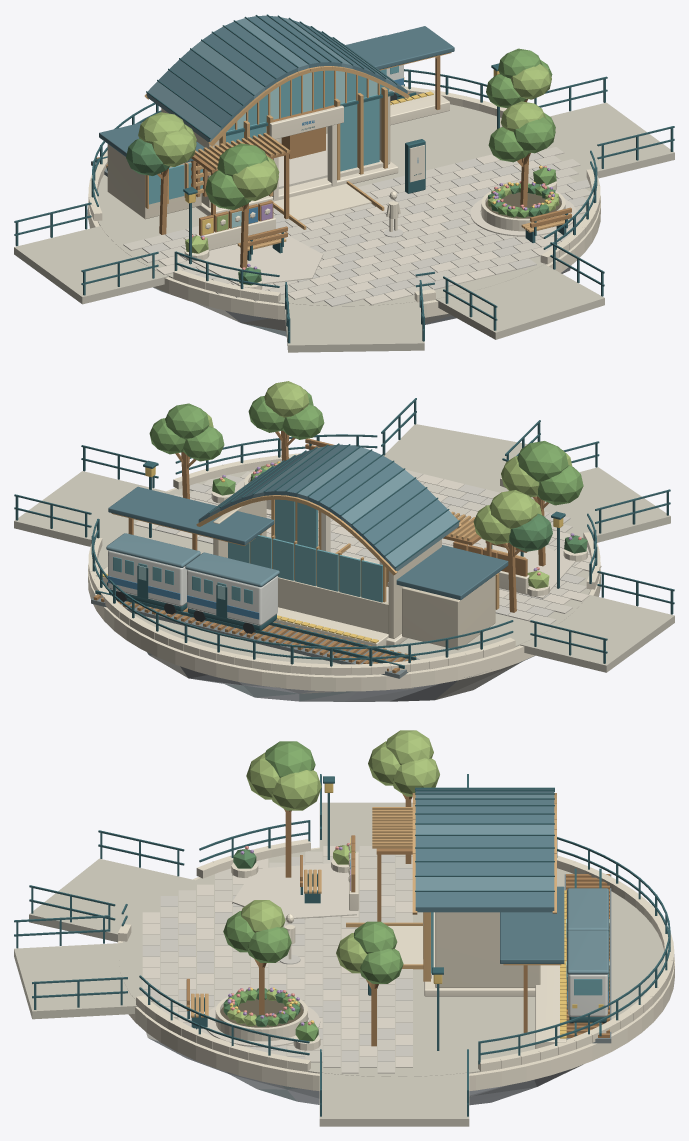
Rendered from transport-station.glb.
3 renders of one model, top to bottom at view 1: azimuth 30°, elevation 25°; view 2: azimuth 150°, elevation 25°; view 3: azimuth 270°, elevation 25°, orthographic. The views are drawn at different scales.
Visible parts, largest first — view 1: Terrain__Plaza_warm_stone, Terrain__Paving_A, Architecture__Standing_seam_blue_teal, Terrain__Light_cut_stone, Landscape__Tree_mid_green, Terrain__Dark_teal_metal, Terrain__Paving_B, Terrain__Paving_C, Landscape__Tree_sun_green, Architecture__Blue_green_glazing, Architecture__Woven_timber, Landscape__Paving_B (+20 smaller); view 2: Terrain__Plaza_warm_stone, Terrain__Light_cut_stone, Architecture__Standing_seam_blue_teal, Architecture__Warm_limestone_plaster, Terrain__Dark_teal_metal, Landscape__Tree_mid_green, Architecture__Blue_green_glazing, Landscape__Tree_sun_green, Attached platform roof, Train__Train_porcelain, Triangulated floating limestone, Terrain__Paving_A (+21 smaller); view 3: Terrain__Plaza_warm_stone, Terrain__Light_cut_stone, Terrain__Paving_A, Architecture__Standing_seam_blue_teal, Landscape__Tree_sun_green, Terrain__Dark_teal_metal, Terrain__Paving_B, Terrain__Paving_C, Landscape__Tree_mid_green, Architecture__Warm_limestone_plaster, Landscape__Paving_B, Architecture__Roof_panel_highlight (+17 smaller).
Boxes of the visible parts, x1,y1,x2,y2 form: Terrain__Plaza_warm_stone: (14,102,674,352); Terrain__Paving_A: (123,147,590,303); Architecture__Standing_seam_blue_teal: (99,15,407,162); Terrain__Light_cut_stone: (88,86,600,319); Landscape__Tree_mid_green: (205,48,556,217); Terrain__Dark_teal_metal: (14,69,674,343); Terrain__Paving_B: (156,149,561,305); Terrain__Paving_C: (142,152,590,306); Landscape__Tree_sun_green: (138,64,559,253); Architecture__Blue_green_glazing: (149,70,389,204); Architecture__Woven_timber: (144,66,409,208); Landscape__Paving_B: (180,199,576,284); Terrain__Plaza_warm_stone: (14,424,674,675); Terrain__Light_cut_stone: (88,452,600,691); Architecture__Standing_seam_blue_teal: (198,444,508,600); Architecture__Warm_limestone_plaster: (213,500,495,650); Terrain__Dark_teal_metal: (14,398,674,666); Landscape__Tree_mid_green: (149,389,583,505); Architecture__Blue_green_glazing: (228,499,382,602); Landscape__Tree_sun_green: (205,381,572,588); Attached platform roof: (108,486,274,545); Train__Train_porcelain: (108,550,277,625); Triangulated floating limestone: (147,652,534,701); Terrain__Paving_A: (174,469,589,624); Terrain__Plaza_warm_stone: (14,802,664,1126); Terrain__Light_cut_stone: (118,839,674,1090); Terrain__Paving_A: (142,846,412,1073); Architecture__Standing_seam_blue_teal: (415,789,554,912); Landscape__Tree_sun_green: (227,730,439,1026); Terrain__Dark_teal_metal: (14,774,670,1116); Terrain__Paving_B: (142,846,412,1067); Terrain__Paving_C: (142,854,412,1061); Landscape__Tree_mid_green: (223,741,403,1041); Architecture__Warm_limestone_plaster: (435,912,540,987); Landscape__Paving_B: (206,863,356,1047); Architecture__Roof_panel_highlight: (415,794,554,890).
Bounding box in the file's own units: 24 × 9.76 × 21.2.
